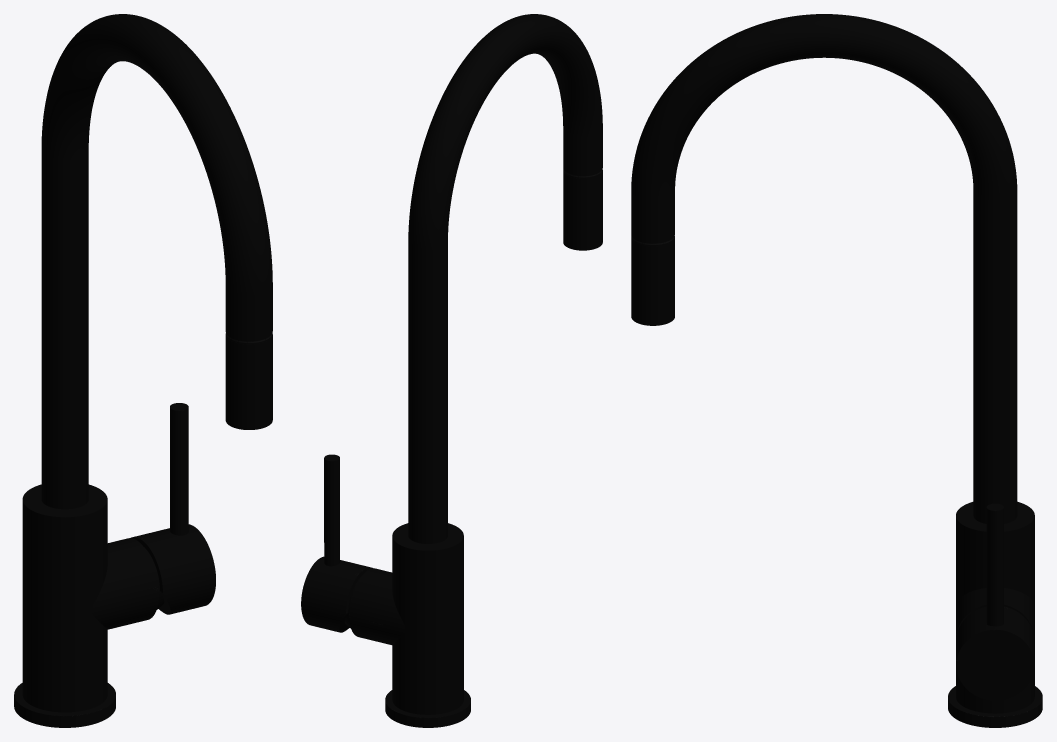
3 renders of one model, left to right at view 1: azimuth 30°, elevation 25°; view 2: azimuth 150°, elevation 25°; view 3: azimuth 270°, elevation 25°, orthographic. The views are drawn at different scales.
Parts seen in each view (by area): view 1: mesh_id7, mesh_id5; view 2: mesh_id7, mesh_id5; view 3: mesh_id7, mesh_id5.
Part boxes in pixels (bbox=[...]): mesh_id7: bbox=[14, 14, 272, 727]; mesh_id5: bbox=[225, 333, 272, 429]; mesh_id7: bbox=[301, 14, 602, 727]; mesh_id5: bbox=[563, 170, 602, 250]; mesh_id7: bbox=[631, 14, 1042, 727]; mesh_id5: bbox=[631, 236, 674, 325].
Size of the model in its own units: 0.1254 by 0.512 by 0.276.
3 materials, 3 textured.
